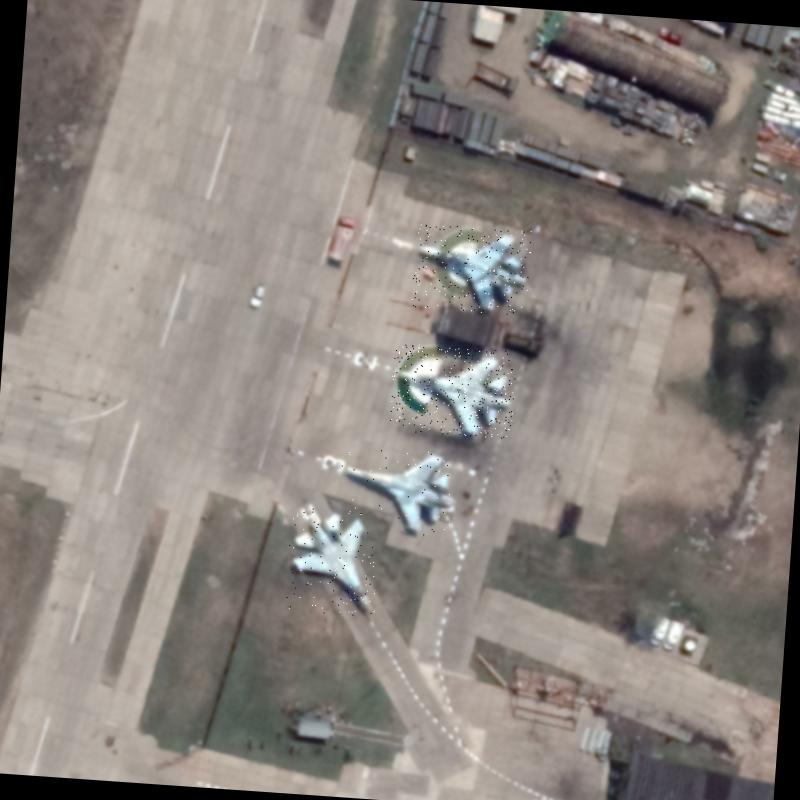A1: (388, 342, 517, 438), (336, 444, 460, 537), (410, 222, 532, 316), (282, 507, 382, 616)
